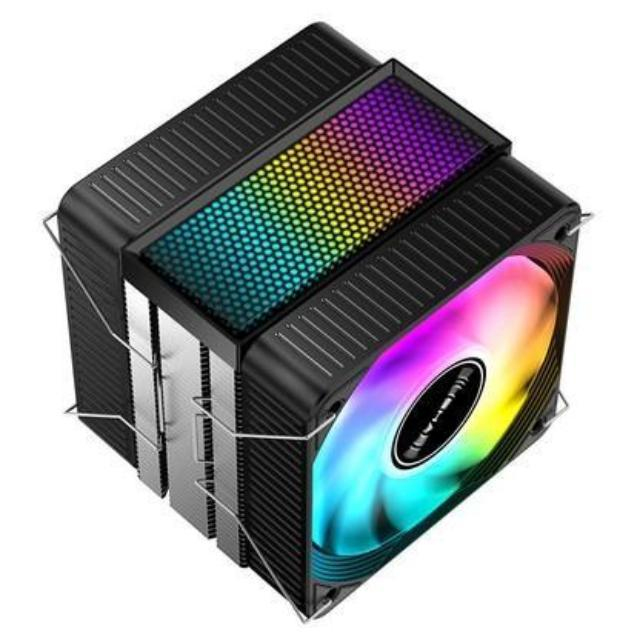CPU_Fan: (52, 19, 586, 613)
